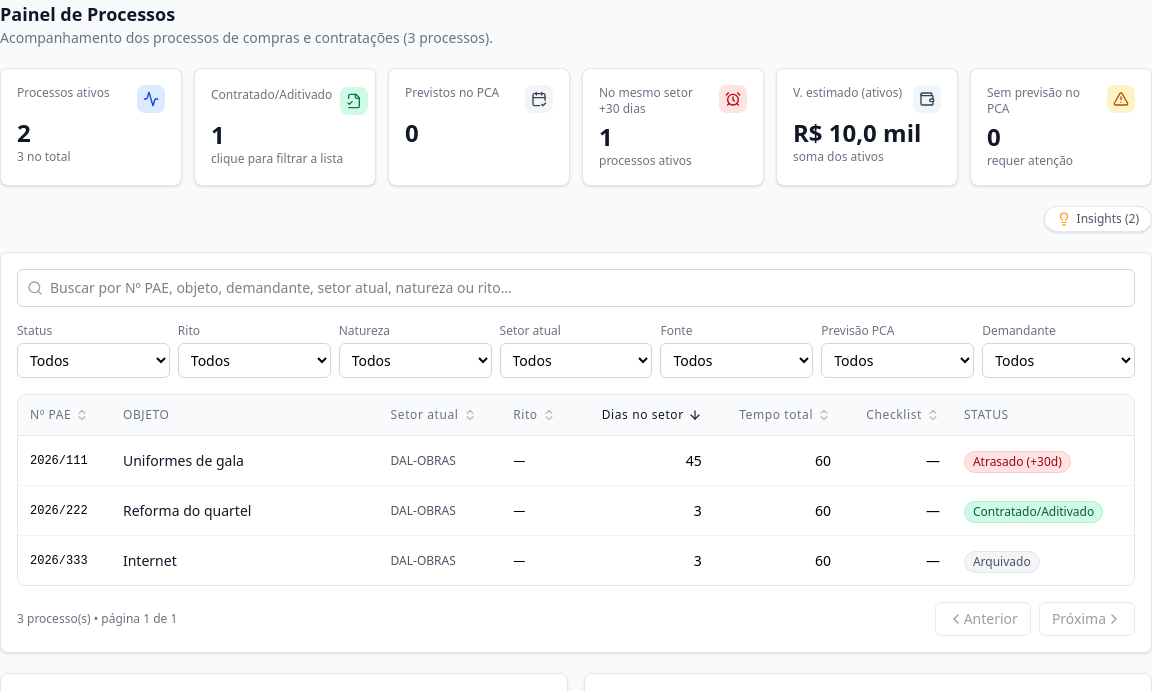
it: PainelProcessos › o card Contratado/Aditivado filtra a lista e pode ser desligado
Click the button "Contratado/Aditivado 1 clique para filtrar a lista" at (285, 127), box [194,68,376,186]
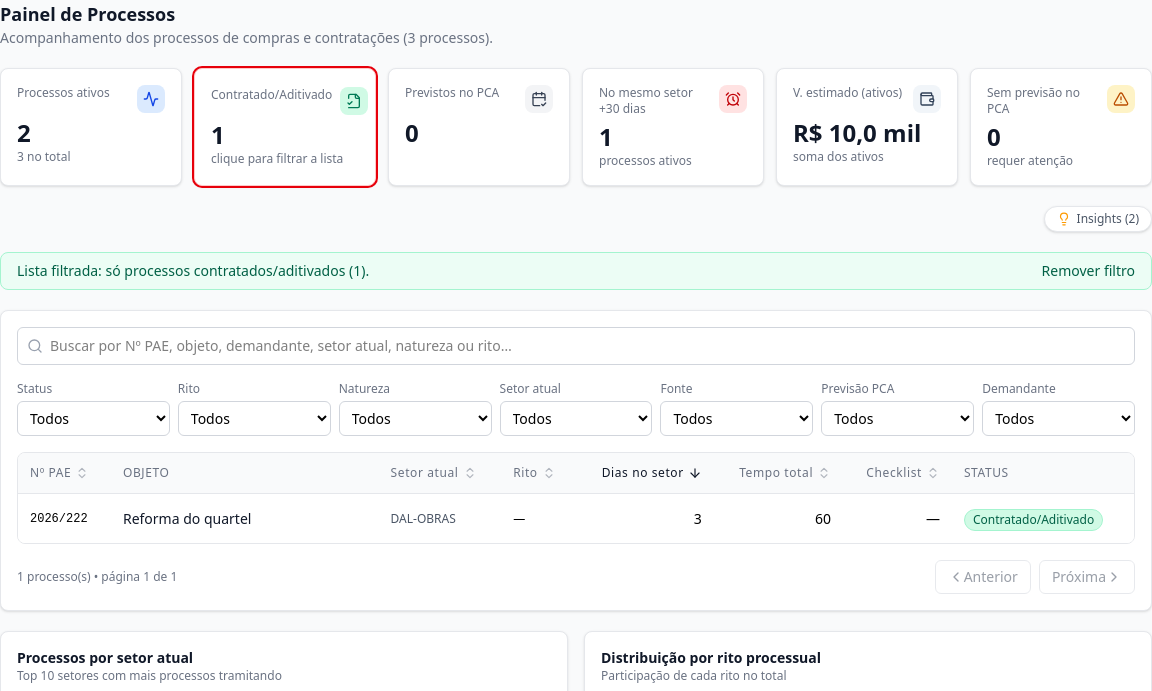
Expected: the text "2026/222" is shown, [18,494,111,543]
Result: the text "2026/111" is gone
Click the button "Remover filtro" at (1088, 271), box [1042,261,1135,281]
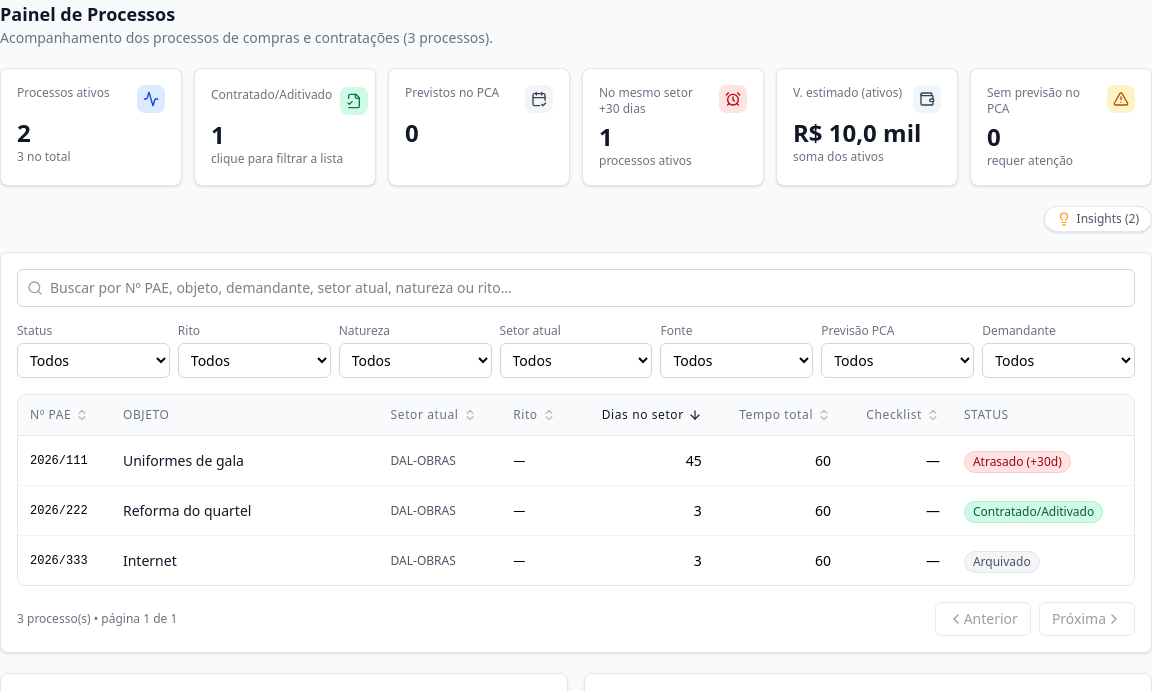
Result: the text "2026/111" is shown at [18,436,111,486]
